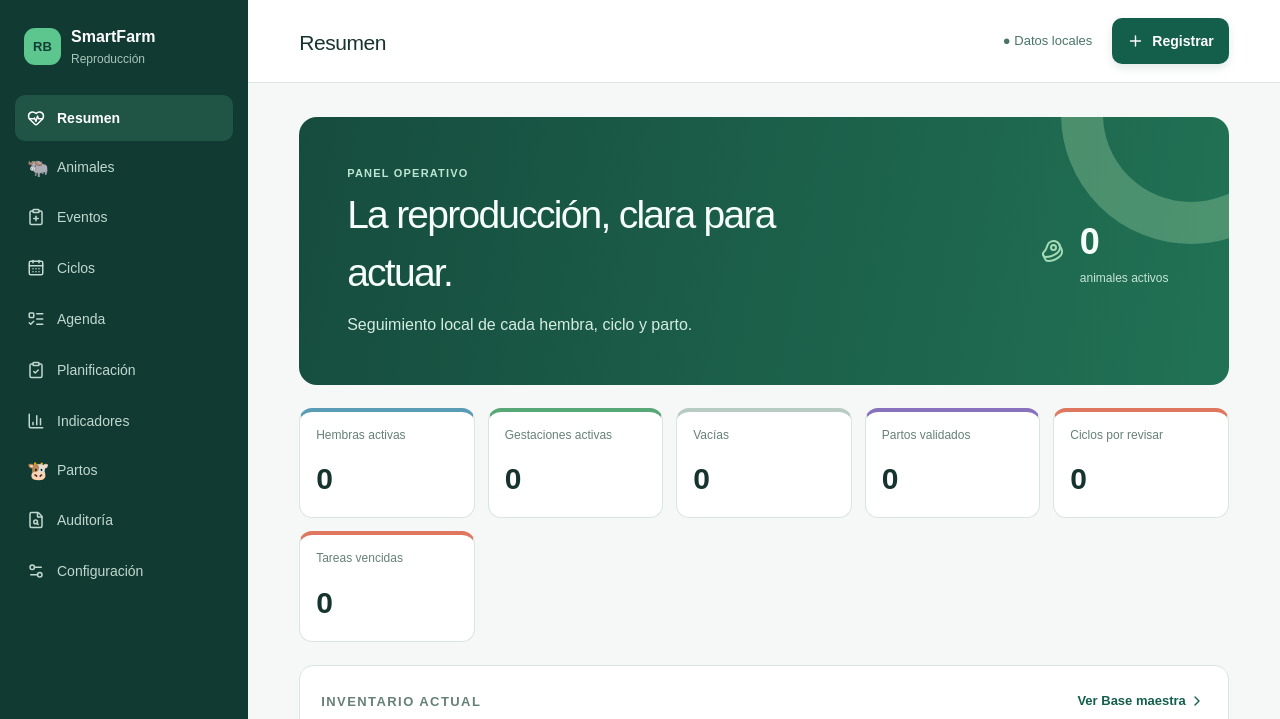
interfaz › abre auditoría con filtros de entidad y acción
Click the button "Auditoría" at (124, 520), box [15,497,233,543]
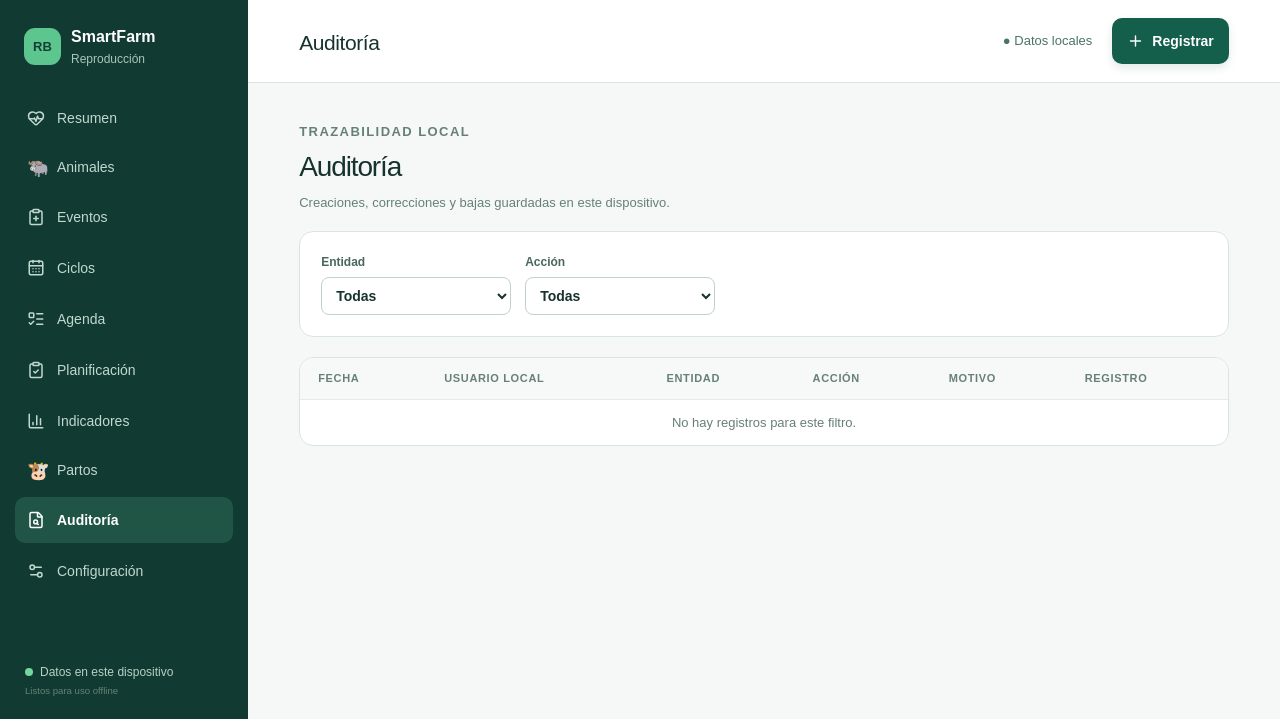
Check: the heading "Auditoría" in the row of "● Datos locales" is shown, box [299,27,380,59]
Check: the dropdown labelled "Entidad" is shown, box [321,277,511,315]
Check: the dropdown labelled "Acción" is shown, box [525,277,715,315]
